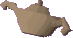genielamp: (1, 1, 73, 38)
